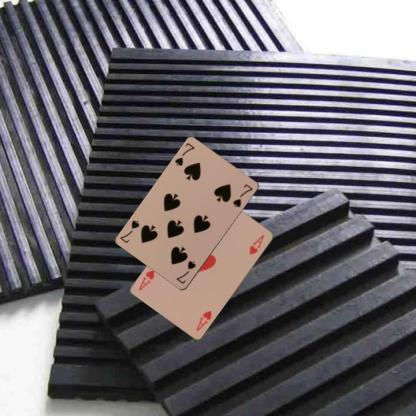7s: (172, 140, 196, 168), (173, 258, 196, 286)
Ah: (194, 308, 212, 332)
